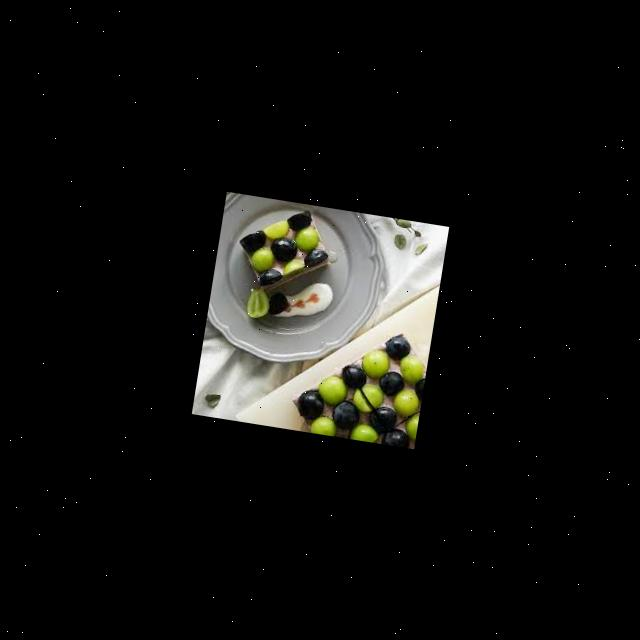grape: (293, 319, 431, 448)
